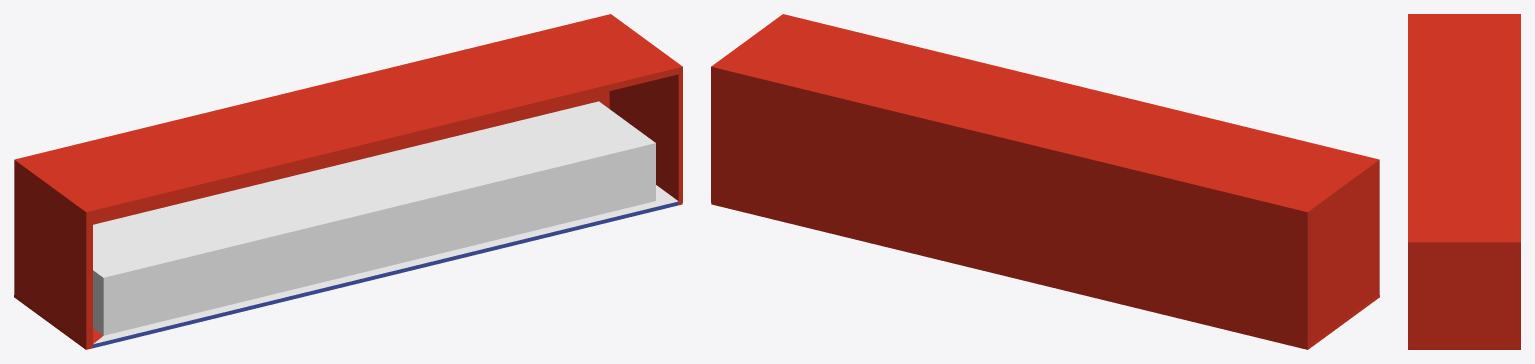
File: Boca.fbx
3 renders of one model, left to right at view 1: azimuth 30°, elevation 25°; view 2: azimuth 150°, elevation 25°; view 3: azimuth 270°, elevation 25°, orthographic. The views are drawn at different scales.
Parts seen in each view (by area): view 1: Boca; view 2: Boca; view 3: Boca.
Boxes of the visible parts, x1=… form: Boca: x1=14, y1=14, x2=682, y2=349; Boca: x1=711, y1=14, x2=1379, y2=349; Boca: x1=1408, y1=14, x2=1520, y2=349.
Size of the model in its own units: 61.42 by 13.54 by 12.83.
